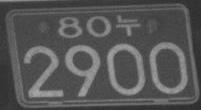0: (105, 42, 146, 95), (148, 41, 188, 95), (85, 14, 112, 38)
2: (22, 44, 64, 98)
8: (57, 15, 82, 39)
9: (64, 43, 101, 97)
누: (115, 14, 140, 36)
